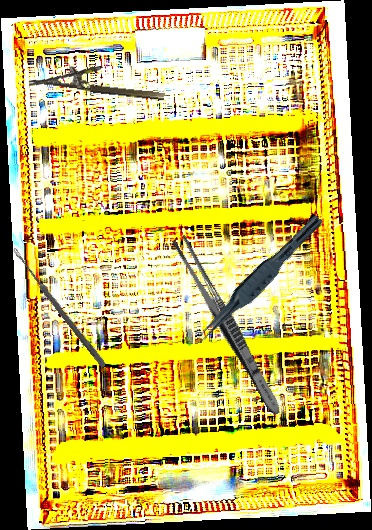Dressing Forceps: (168, 233, 287, 419)
Needle Holder: (28, 57, 168, 103)
Surgical Spoon: (10, 247, 108, 368)
Tissue Forceps: (193, 207, 325, 350)
